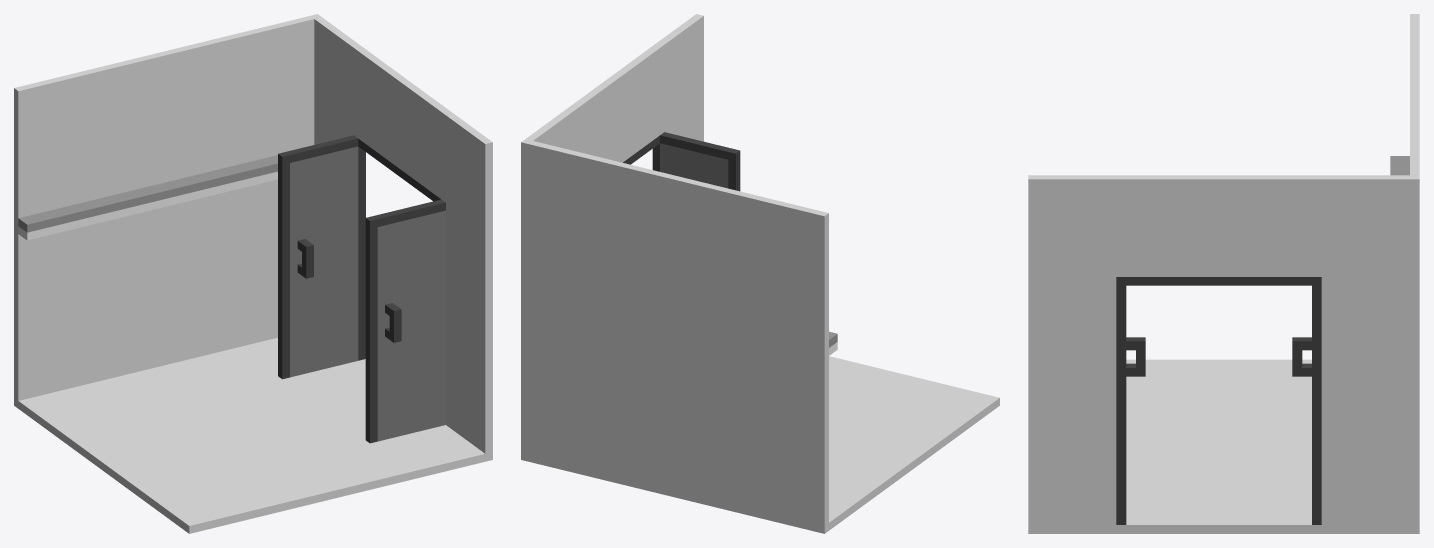
File: Wall_Corner_with_duble_door_open(Ver_1).obj
3 views of the same model, side by side, from view 1: azimuth 30°, elevation 25°; view 2: azimuth 150°, elevation 25°; view 3: azimuth 270°, elevation 25° (orthographic). The views are drawn at different scales.
Bounding box in the file's own units: 4 × 4 × 4.
1 material, 1 textured.
